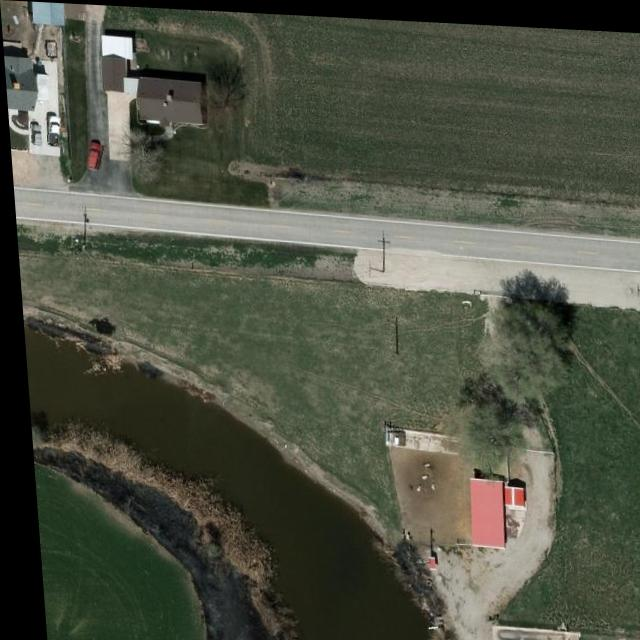vehicle: (83, 142, 102, 171), (44, 115, 60, 147), (27, 124, 40, 146)
